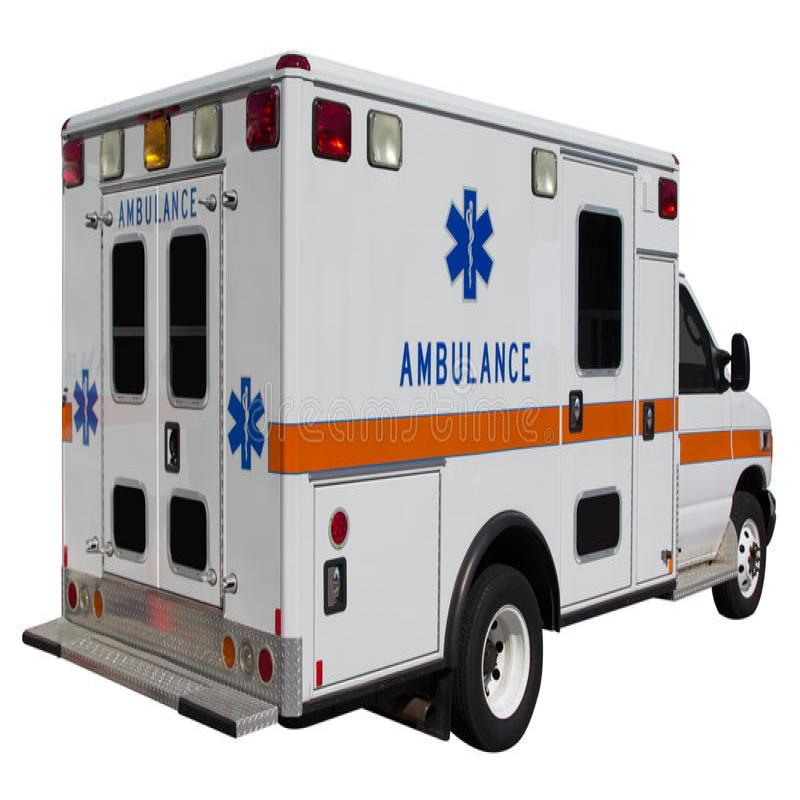ambulance: (31, 70, 800, 741)
